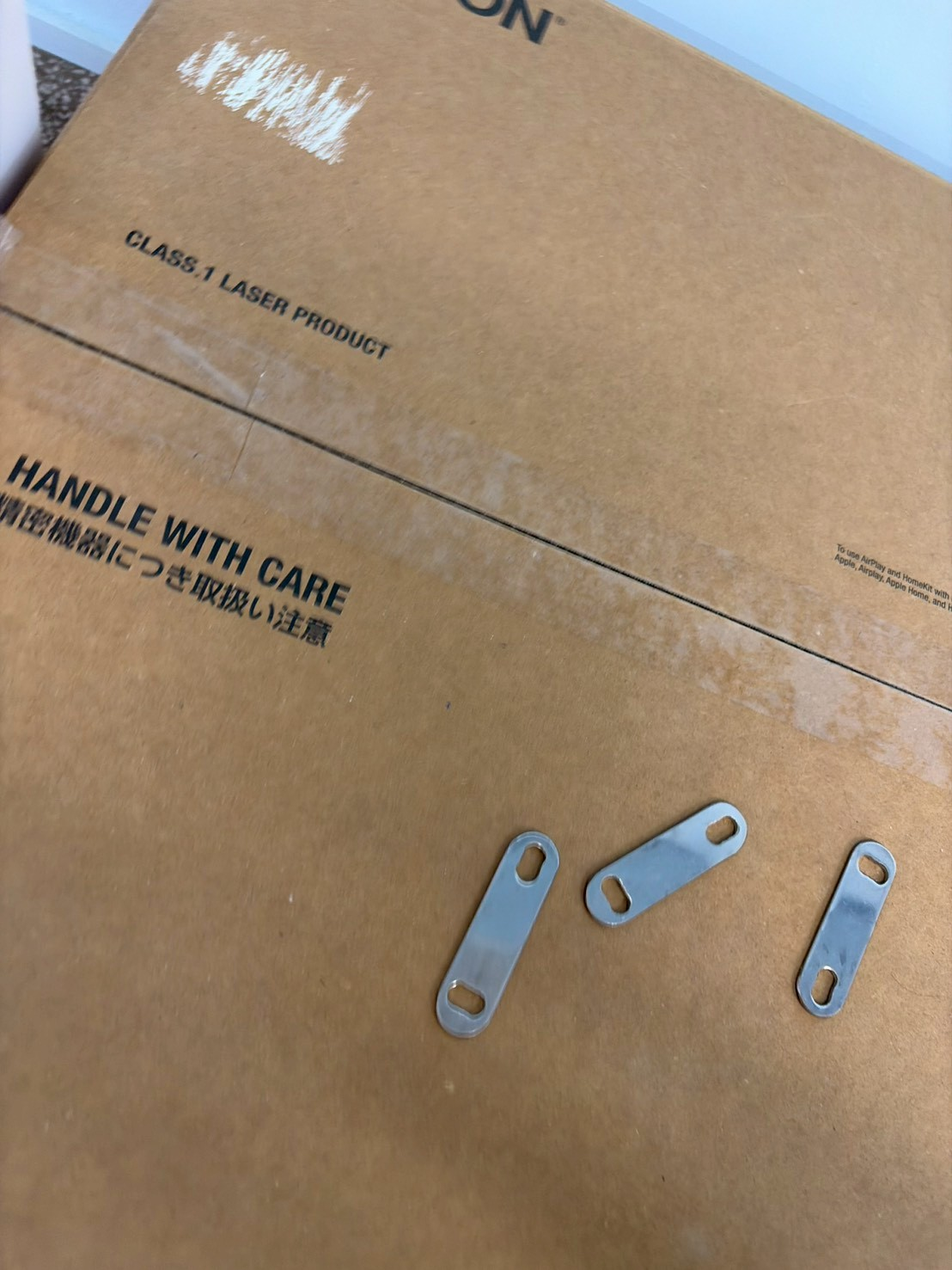Fe: (430, 817, 552, 1038), (591, 792, 747, 933), (791, 831, 887, 1015)
